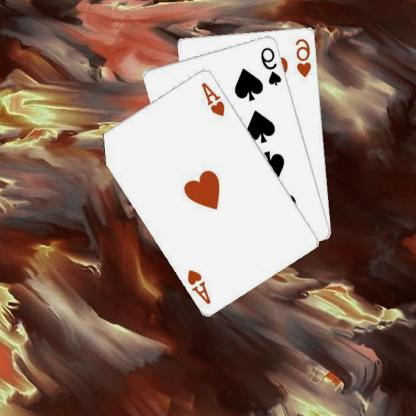6H: (294, 35, 314, 78)
9S: (260, 44, 285, 87)
AH: (201, 79, 228, 118), (187, 267, 214, 305)
